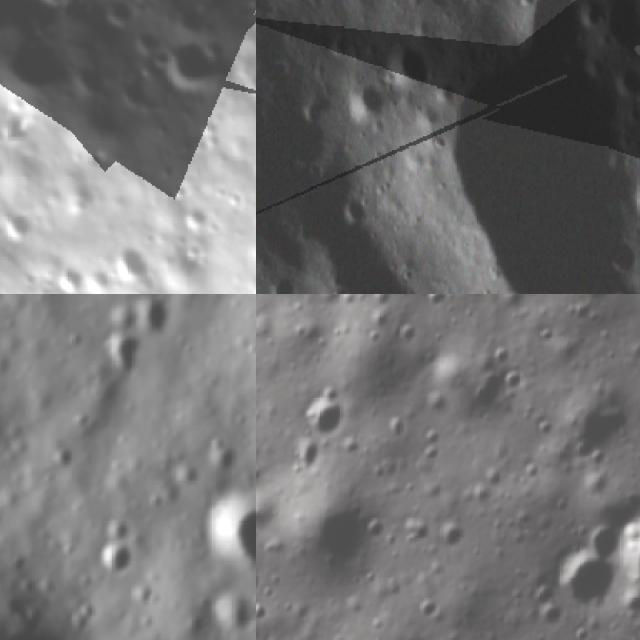crater: (427, 27, 640, 294), (256, 68, 364, 279), (280, 475, 402, 601), (550, 381, 640, 485), (0, 22, 85, 119), (193, 478, 256, 589), (547, 538, 630, 620), (155, 27, 241, 106), (290, 382, 364, 456), (455, 359, 519, 430), (602, 506, 640, 620), (97, 230, 155, 294), (386, 30, 436, 90), (0, 0, 57, 48), (101, 327, 148, 380), (172, 192, 218, 246), (200, 431, 248, 482), (206, 593, 256, 640), (601, 0, 640, 57), (129, 294, 176, 339), (92, 536, 140, 580), (0, 201, 41, 250), (256, 483, 288, 542), (163, 456, 206, 499), (21, 0, 115, 19), (66, 591, 105, 636), (346, 77, 384, 123), (96, 0, 144, 33), (613, 53, 640, 107), (265, 270, 308, 294)
